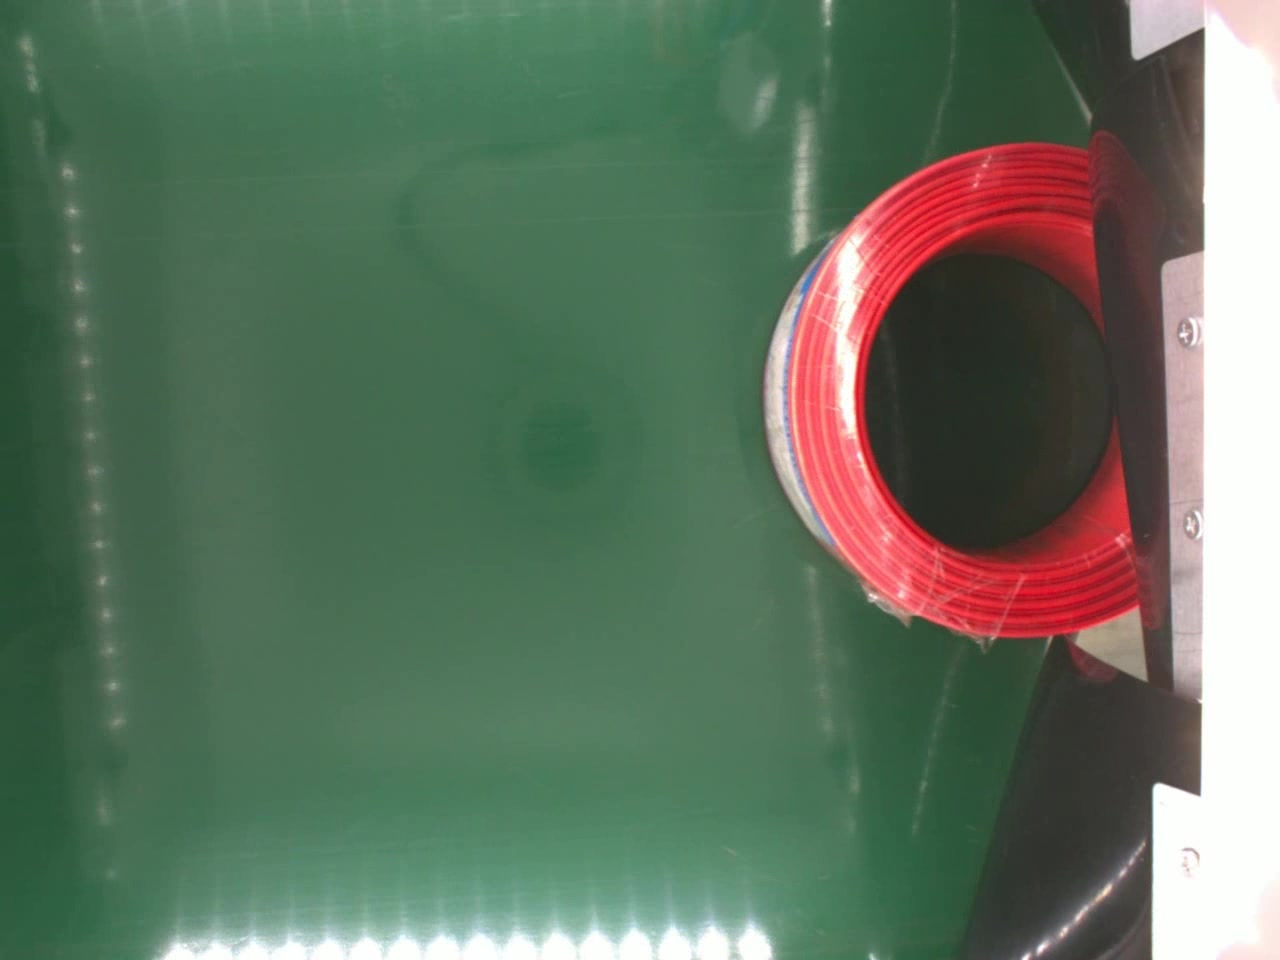red: (760, 136, 1141, 640)
